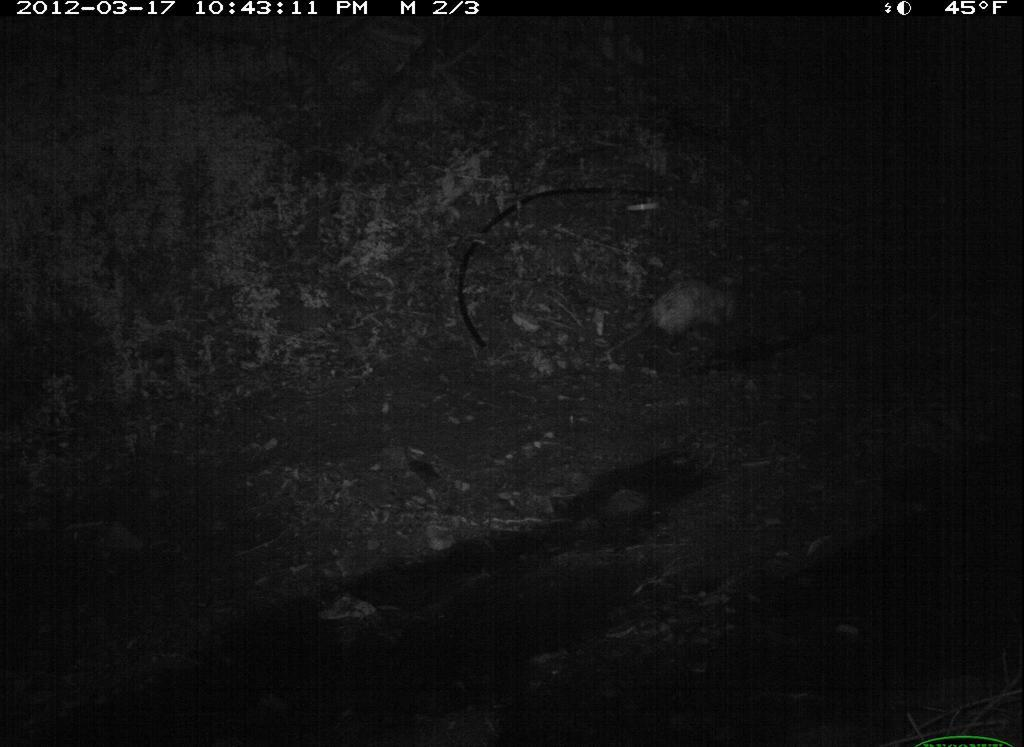opossum: (592, 258, 784, 381)
